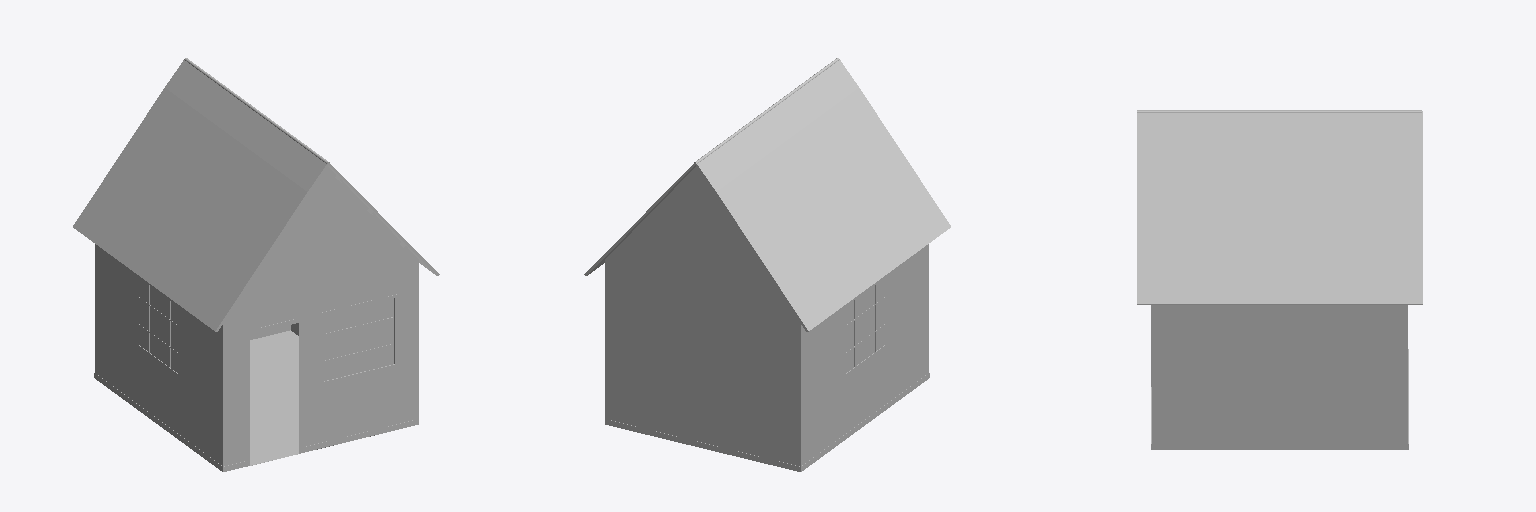
Rendered from CasaSimples_2.obj.
3 renders of one model, left to right at view 1: azimuth 30°, elevation 25°; view 2: azimuth 150°, elevation 25°; view 3: azimuth 270°, elevation 25°, orthographic.
Parts seen in each view (by area): view 1: Casa_Cube.003; view 2: Casa_Cube.003; view 3: Casa_Cube.003.
Boxes of the visible parts, <box> form: Casa_Cube.003: <box>73,58,439,471</box>; Casa_Cube.003: <box>584,58,950,471</box>; Casa_Cube.003: <box>1137,110,1422,449</box>.
Bounding box in the file's own units: 7.28 × 9.05 × 8.03.